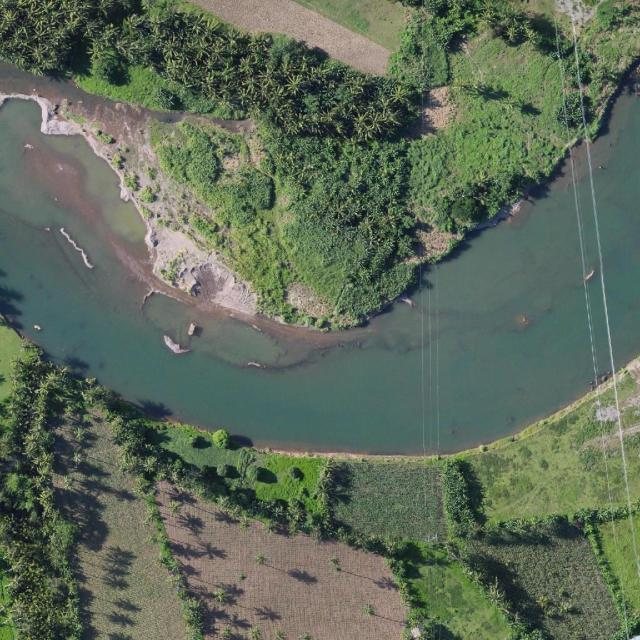wetland: (0, 98, 617, 485)
